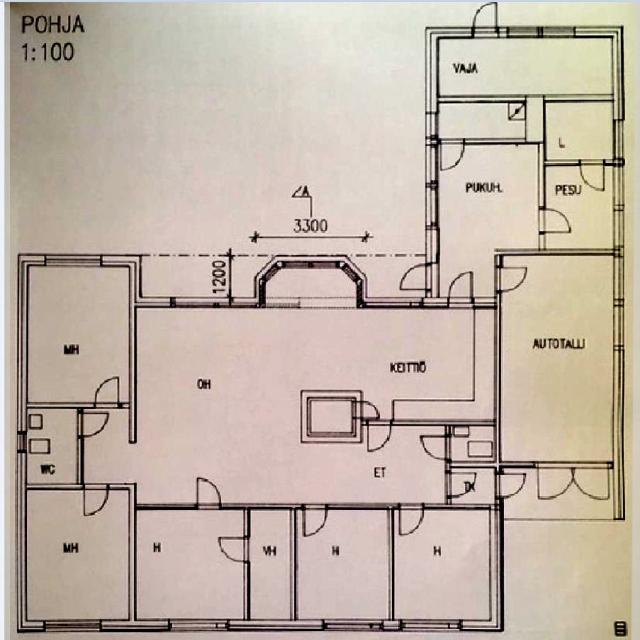door: (21, 406, 82, 486), (531, 461, 597, 506), (566, 460, 615, 508), (494, 464, 534, 501), (90, 372, 124, 410), (536, 205, 575, 237), (191, 473, 225, 509), (363, 414, 393, 454), (395, 502, 427, 539), (417, 430, 452, 463), (398, 261, 433, 293), (80, 483, 110, 519), (300, 503, 330, 538), (216, 534, 252, 563), (437, 138, 467, 172), (578, 160, 608, 193), (447, 268, 475, 303), (78, 408, 110, 438), (471, 0, 499, 34), (496, 264, 529, 292)
window: (319, 615, 385, 636), (398, 615, 464, 636), (42, 616, 103, 637), (166, 616, 231, 635), (609, 298, 629, 351), (609, 251, 628, 306), (422, 180, 441, 232), (43, 252, 104, 268), (172, 295, 225, 311), (610, 115, 628, 160), (541, 24, 576, 40), (506, 24, 540, 39), (424, 108, 440, 138)
zone: (498, 248, 618, 464), (436, 32, 618, 136), (23, 260, 132, 406), (23, 483, 131, 627), (134, 506, 248, 626), (393, 505, 499, 628), (435, 141, 542, 254), (297, 506, 391, 624), (248, 506, 295, 624), (20, 406, 81, 487), (437, 98, 537, 145), (544, 99, 617, 163), (304, 395, 360, 445), (445, 463, 496, 508), (447, 423, 498, 467)
